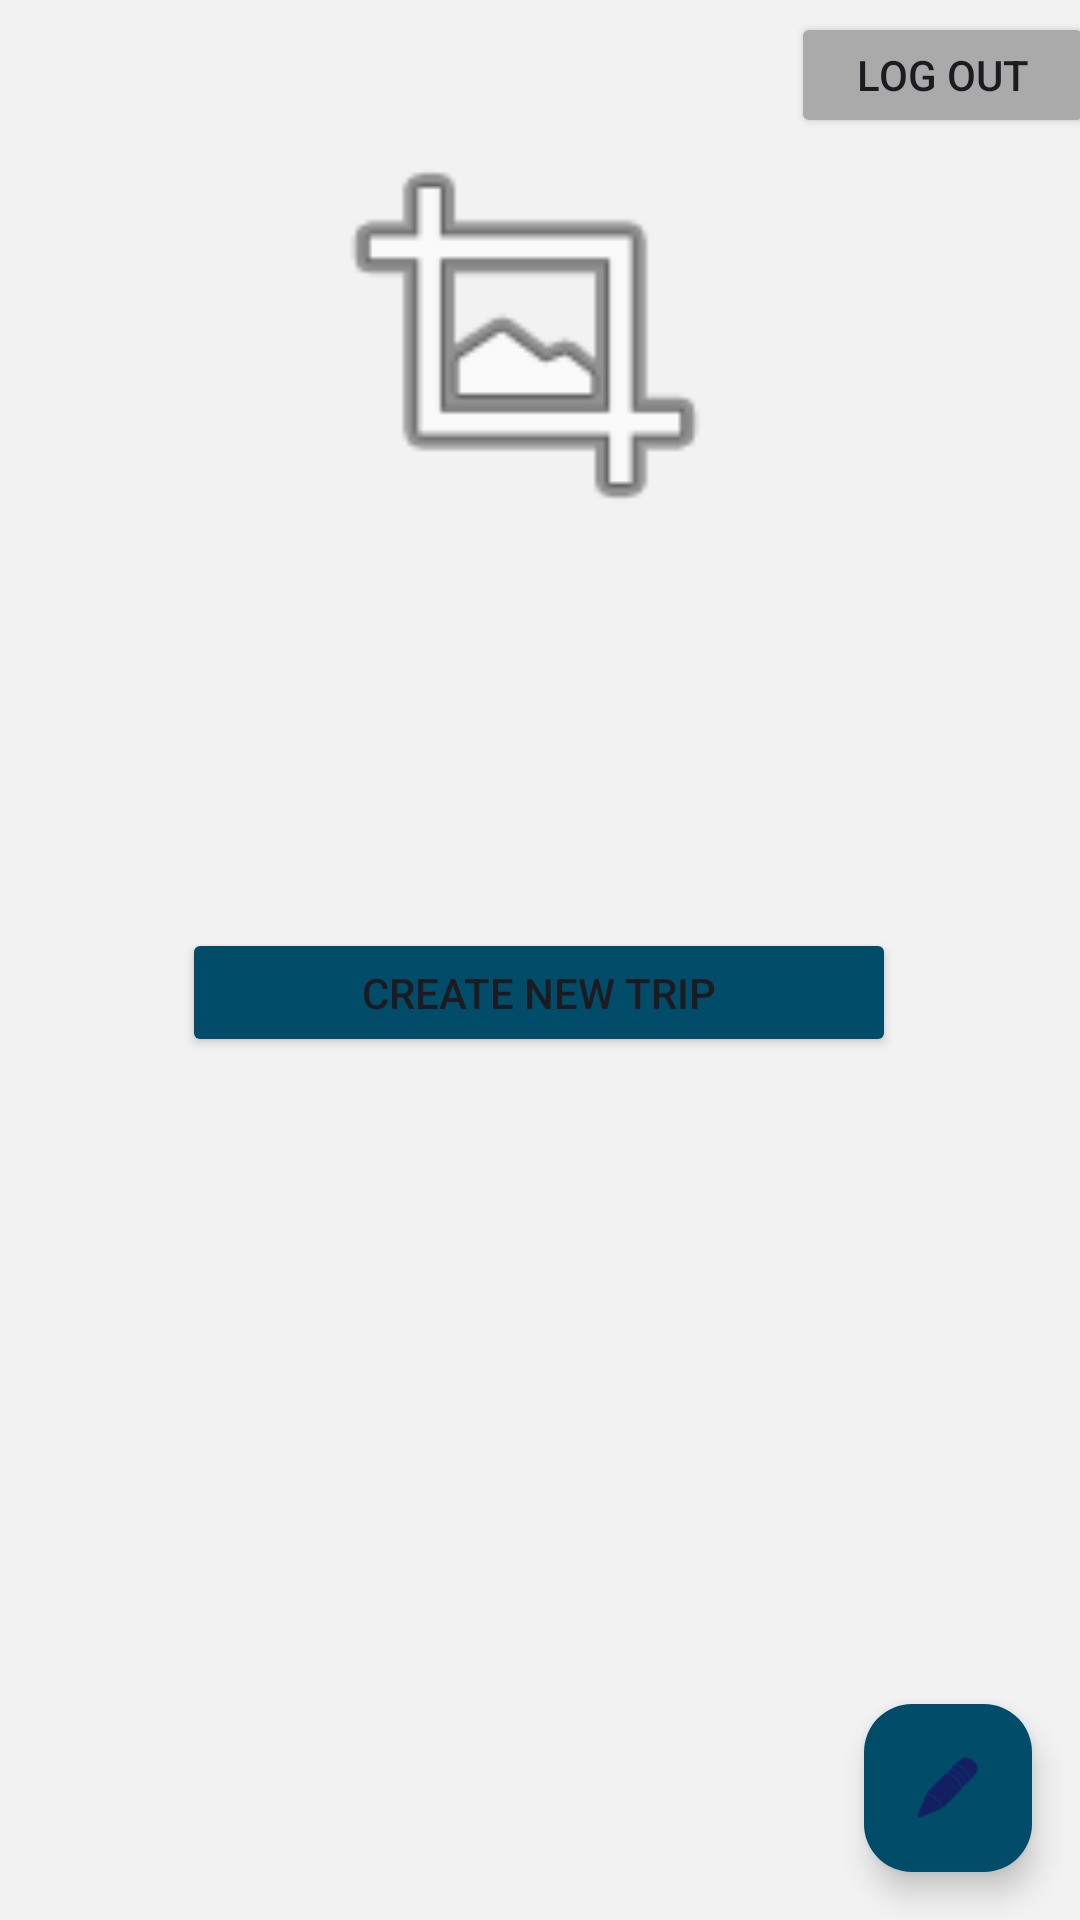

Icon click points for this 1080*1920 phone screenshot, format (x,y):
crop: (525,335)
edit: (948,1788)
